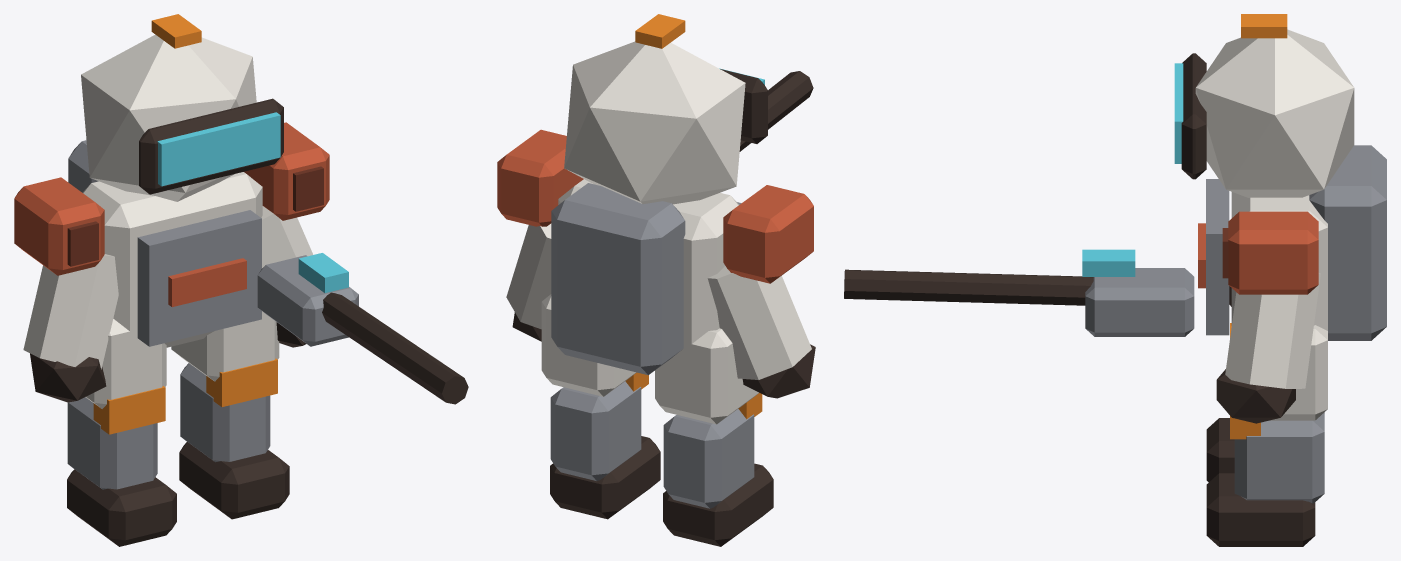
File: u_rifleman.glb
3 renders of one model, left to right at view 1: azimuth 30°, elevation 25°; view 2: azimuth 150°, elevation 25°; view 3: azimuth 270°, elevation 25°, orthographic.
Visible parts, largest first — view 1: u_rifleman; view 2: u_rifleman; view 3: u_rifleman.
Boxes of the visible parts, box(x1,y1,x2,y2) form: u_rifleman: box(14, 14, 468, 546); u_rifleman: box(497, 14, 815, 546); u_rifleman: box(844, 14, 1386, 546).
Size of the model in its own units: 0.2 by 0.32 by 0.3231.
